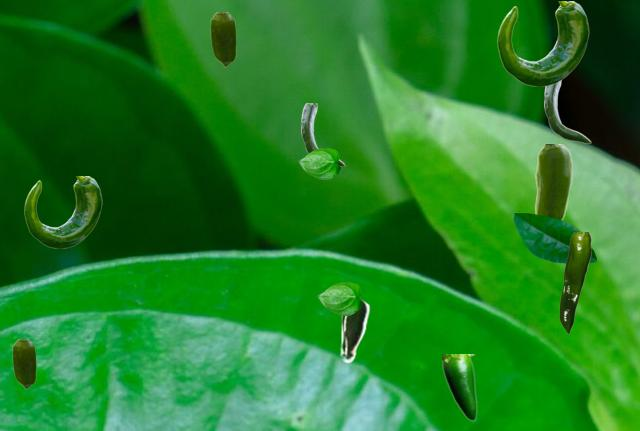green_chili: (497, 1, 588, 85), (24, 176, 101, 247), (559, 232, 590, 333), (544, 81, 590, 142), (534, 144, 571, 219), (301, 103, 344, 165), (442, 354, 476, 420), (338, 296, 369, 362), (210, 12, 235, 66), (12, 339, 35, 388)
